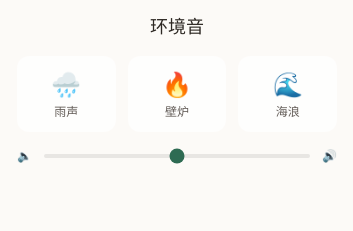
Test: AmbientPlayer › 播放控制 › Audio.play 抛错 → 显示"暂时放不出来"且不写 sanctuary-playing
expect the text "雨声" is shown: met, box [54,104,78,120]
Click the button "🌧 雨声" at (66, 94), box [17,56,116,132]
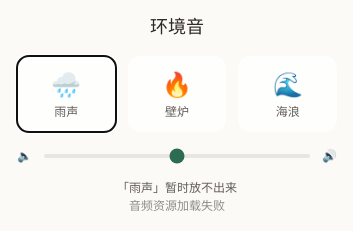
expect the text "「雨声」暂时放不出来 音频资源加载失败" is shown: met, box [117,180,237,214]
